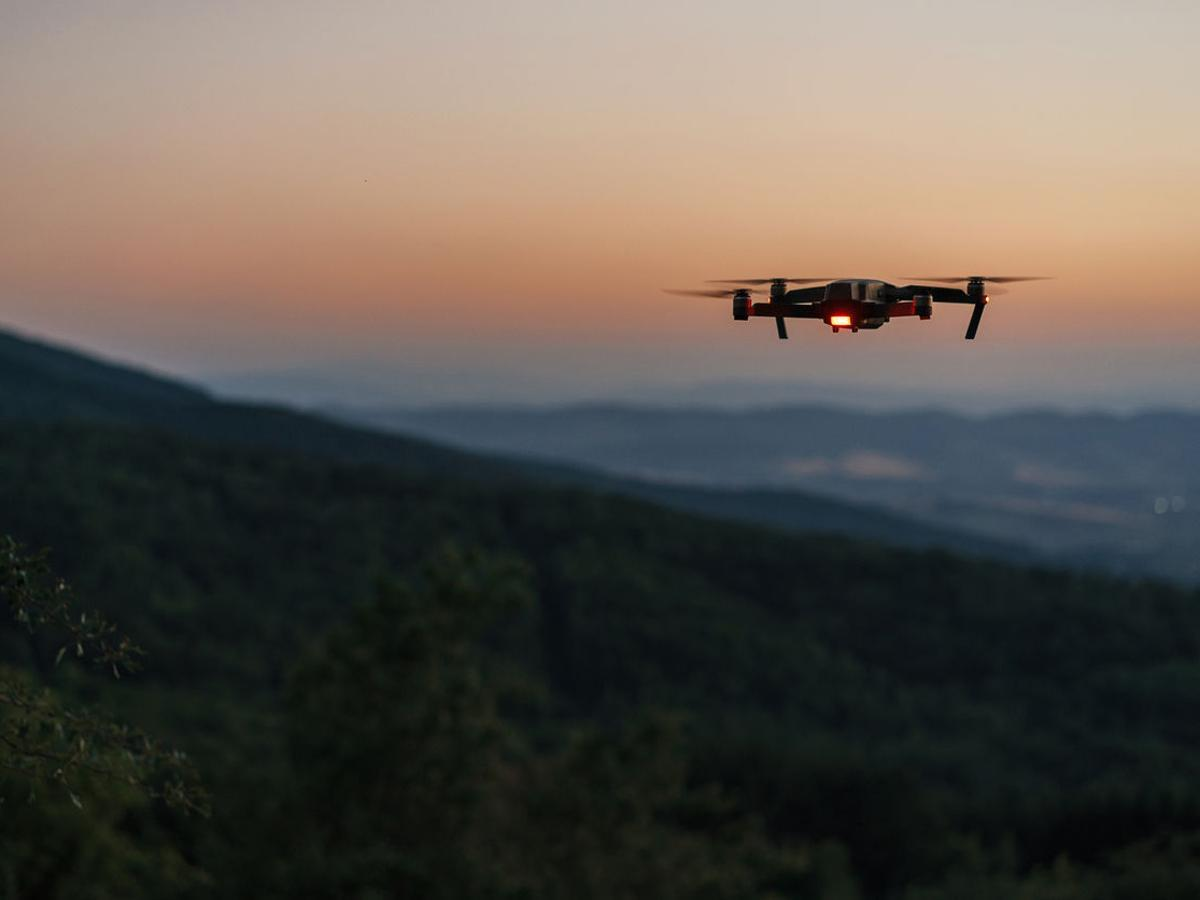drone_other: (663, 270, 1062, 341)
